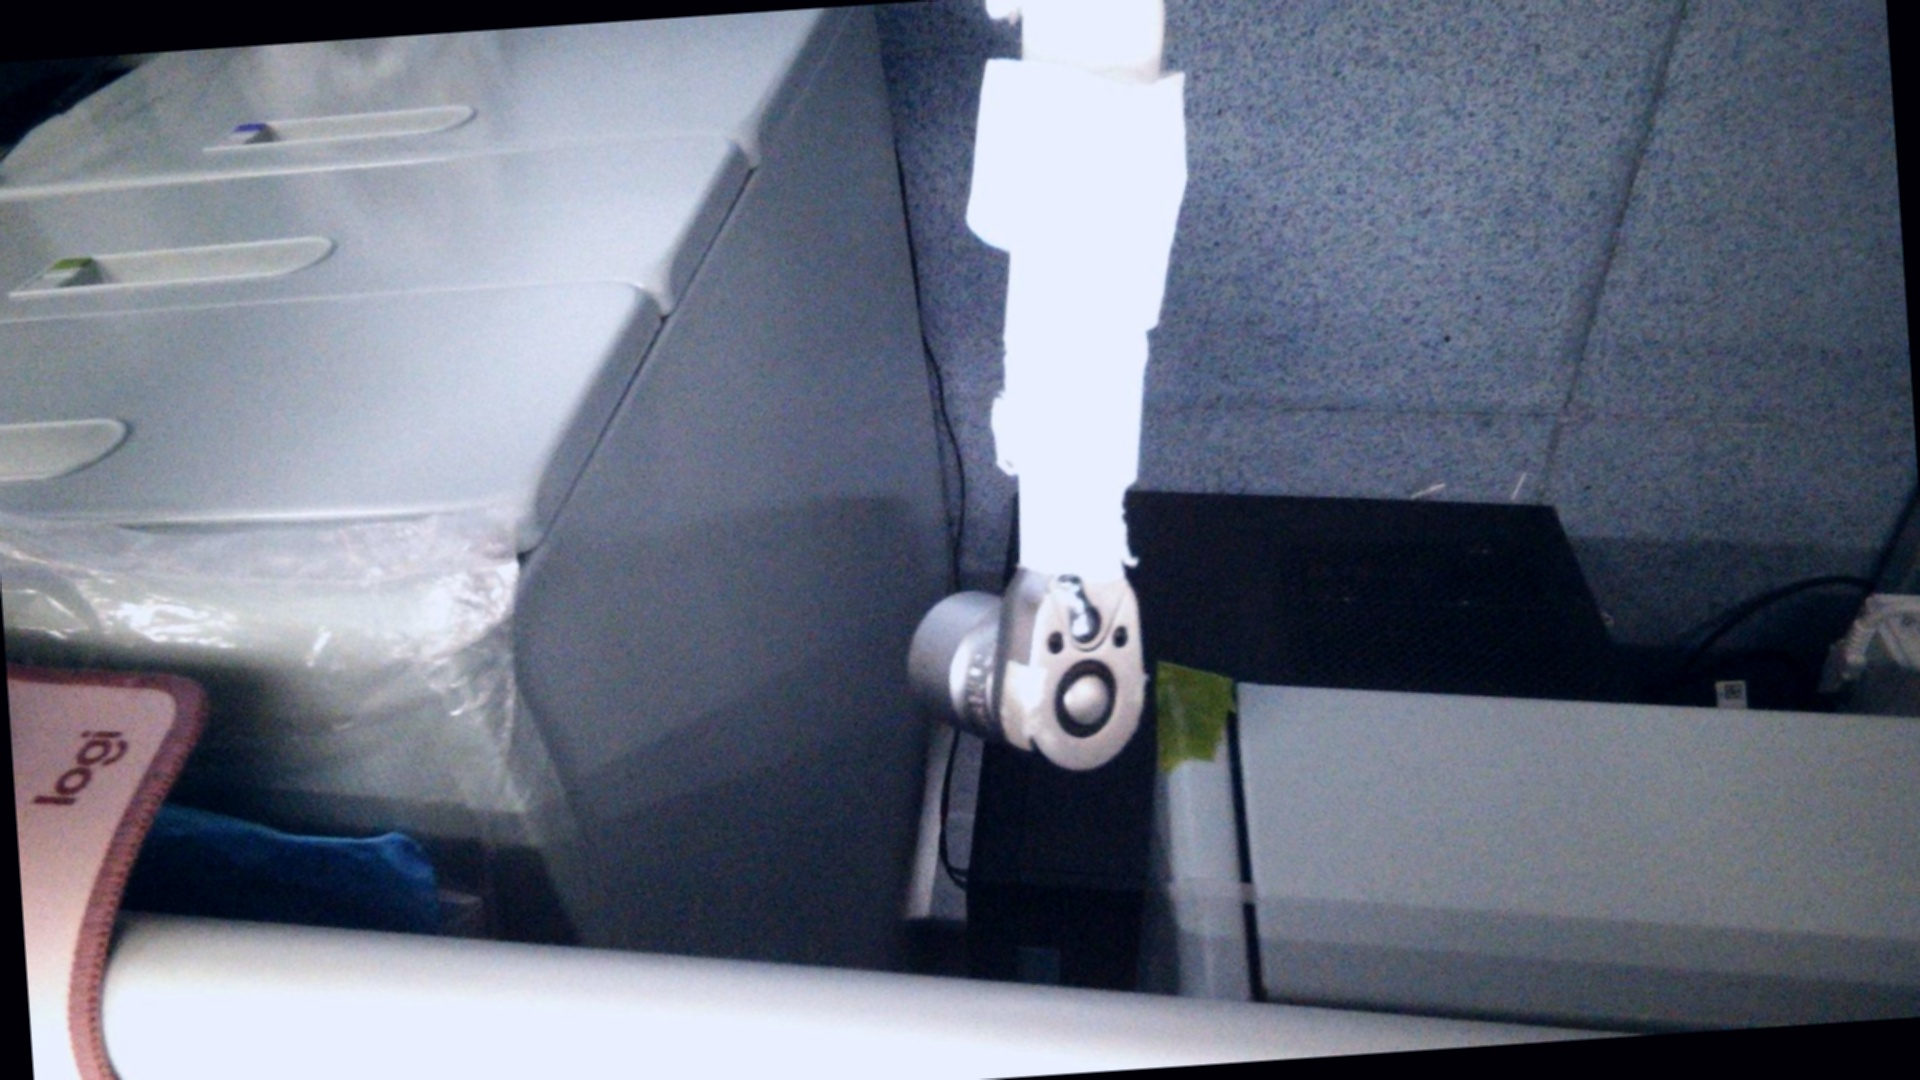wrench: (1046, 650, 1133, 745)
